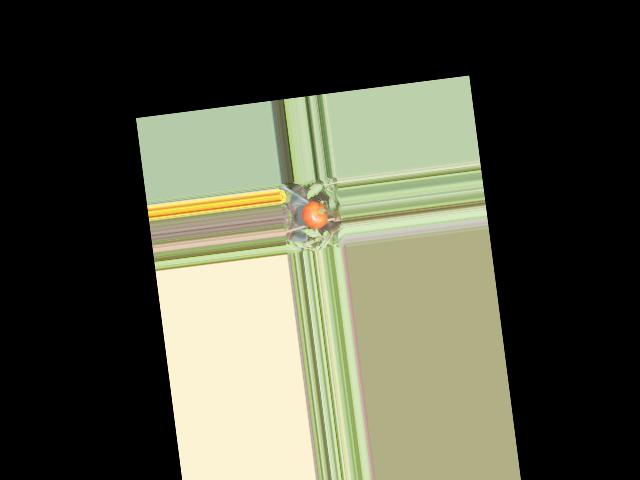tomato: (300, 199, 328, 231)
